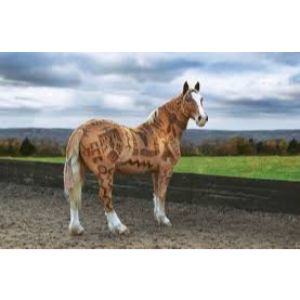horse: (59, 80, 210, 239)
